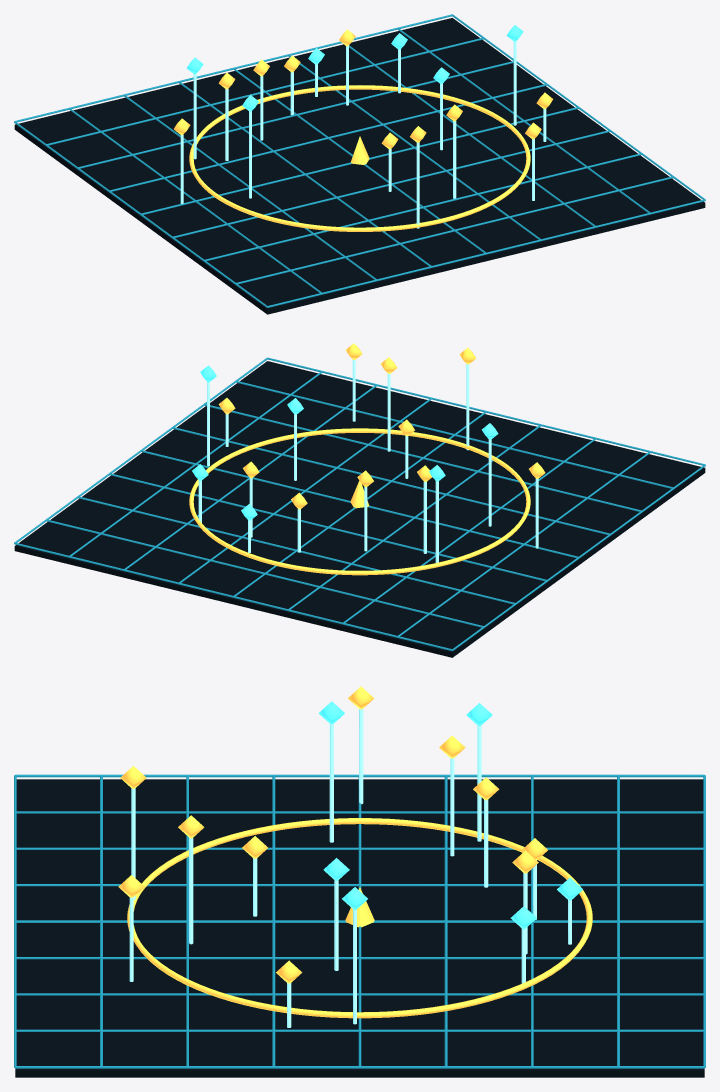
Rendered from bites.glb.
The picture shows the model from 3 angles, top to bottom: view 1: azimuth 30°, elevation 25°; view 2: azimuth 150°, elevation 25°; view 3: azimuth 270°, elevation 25°; orthographic projection. The views are drawn at different scales.
Visible parts, largest first — view 1: bites, streets, radius-2km, pins, approved, in-review; view 2: bites, streets, radius-2km, pins, approved, in-review; view 3: bites, streets, radius-2km, pins, approved, in-review.
Part boxes in pixels (x1=…): bites: x1=14, y1=18, x2=705, y2=314; streets: x1=14, y1=14, x2=705, y2=307; radius-2km: x1=189, y1=85, x2=530, y2=231; pins: x1=180, y1=41, x2=546, y2=228; approved: x1=174, y1=29, x2=553, y2=149; in-review: x1=186, y1=25, x2=523, y2=111; bites: x1=14, y1=361, x2=705, y2=657; streets: x1=14, y1=357, x2=705, y2=651; radius-2km: x1=189, y1=428, x2=530, y2=575; pins: x1=198, y1=360, x2=538, y2=562; approved: x1=218, y1=343, x2=545, y2=509; in-review: x1=192, y1=365, x2=498, y2=520; bites: x1=15, y1=779, x2=704, y2=1077; streets: x1=14, y1=774, x2=705, y2=1068; radius-2km: x1=127, y1=818, x2=592, y2=1018; pins: x1=129, y1=709, x2=571, y2=1027; approved: x1=118, y1=686, x2=547, y2=983; in-review: x1=318, y1=701, x2=582, y2=929.
Size of the model in its own units: 0.3612 by 0.0871 by 0.3614.
